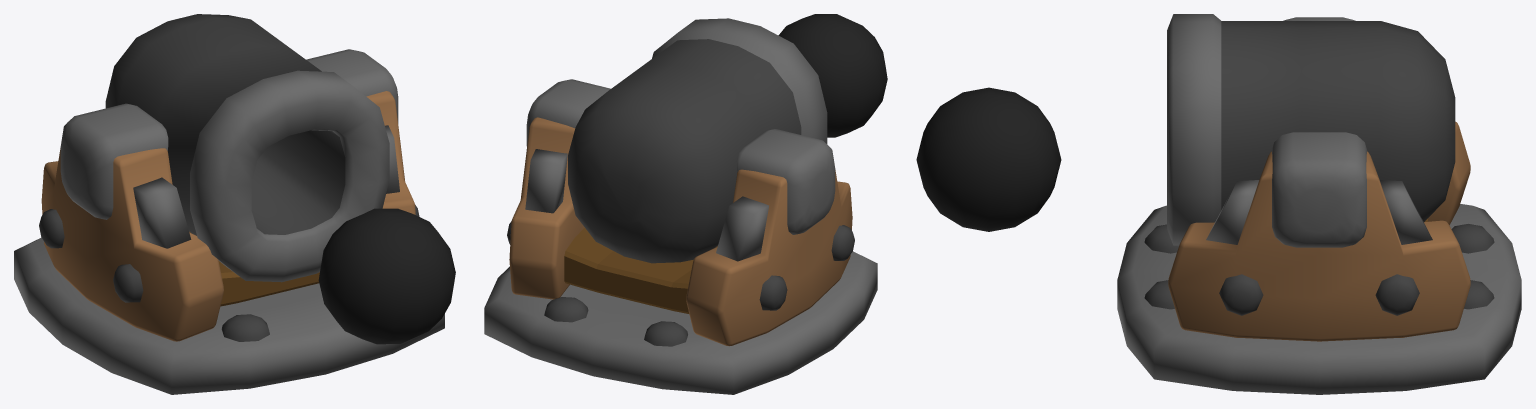
The model's file is meriam (1).fbx.
3 renders of one model, left to right at view 1: azimuth 30°, elevation 25°; view 2: azimuth 150°, elevation 25°; view 3: azimuth 270°, elevation 25°, orthographic. The views are drawn at different scales.
Visible parts, largest first — view 1: Cannon, CannonBall; view 2: Cannon, CannonBall; view 3: Cannon, CannonBall.
Part boxes in pixels (x1,y1,x2,y2): Cannon: (14, 14, 444, 394); CannonBall: (318, 208, 455, 344); Cannon: (484, 18, 877, 394); CannonBall: (778, 14, 887, 137); Cannon: (1117, 14, 1521, 394); CannonBall: (916, 87, 1061, 231).
Bounding box in the file's own units: 244 × 190 × 366.
1 material, 1 textured.
